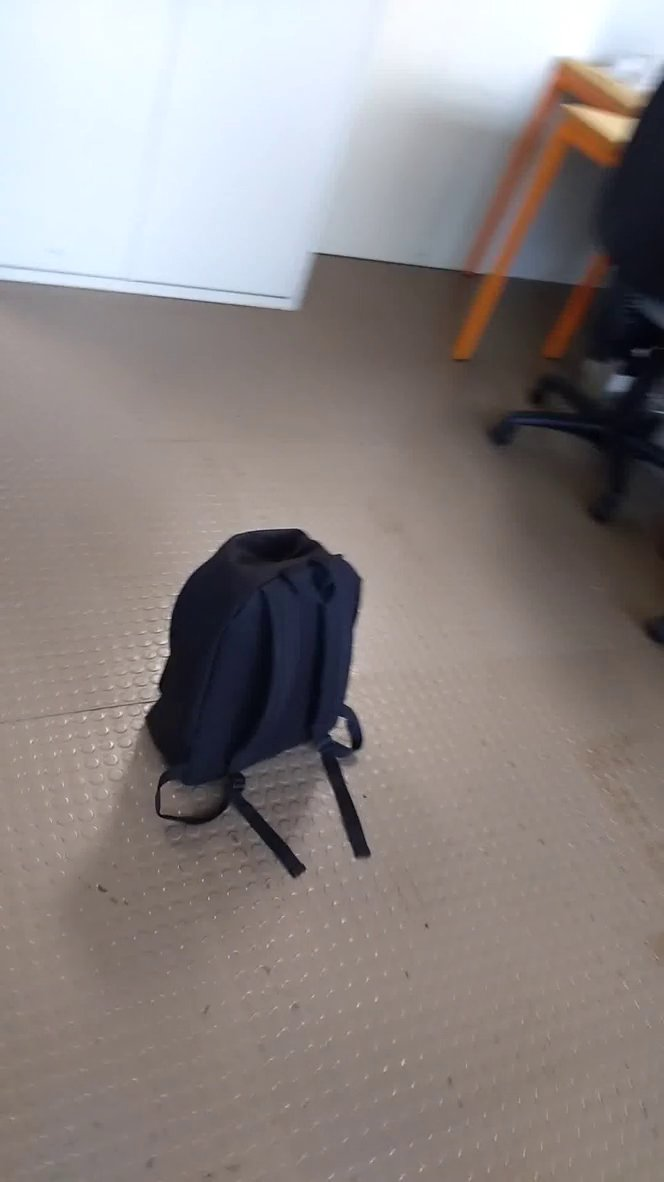bag: (131, 498, 408, 898)
